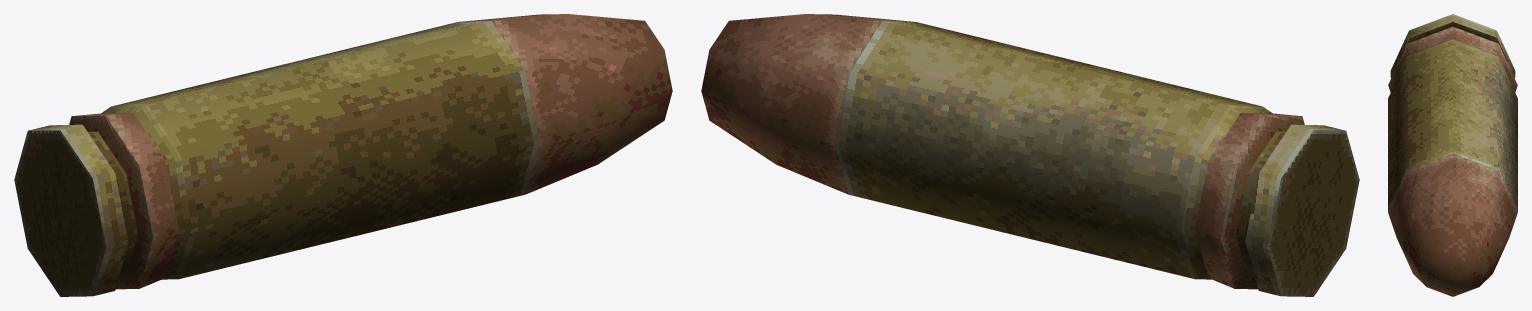
Rendered from Projectiles.glb.
The picture shows the model from 3 angles, left to right: view 1: azimuth 30°, elevation 25°; view 2: azimuth 150°, elevation 25°; view 3: azimuth 270°, elevation 25°; orthographic projection. The views are drawn at different scales.
Parts seen in each view (by area): view 1: 9mm_Bullet_Mesh; view 2: 9mm_Bullet_Mesh; view 3: 9mm_Bullet_Mesh.
Part boxes in pixels (bbox=[...]): 9mm_Bullet_Mesh: bbox=[14, 14, 672, 296]; 9mm_Bullet_Mesh: bbox=[701, 14, 1359, 296]; 9mm_Bullet_Mesh: bbox=[1388, 14, 1517, 296].
Bounding box in the file's own units: 3.31 × 0.9069 × 0.9069.
Materials: 1 (1 with a texture image).
